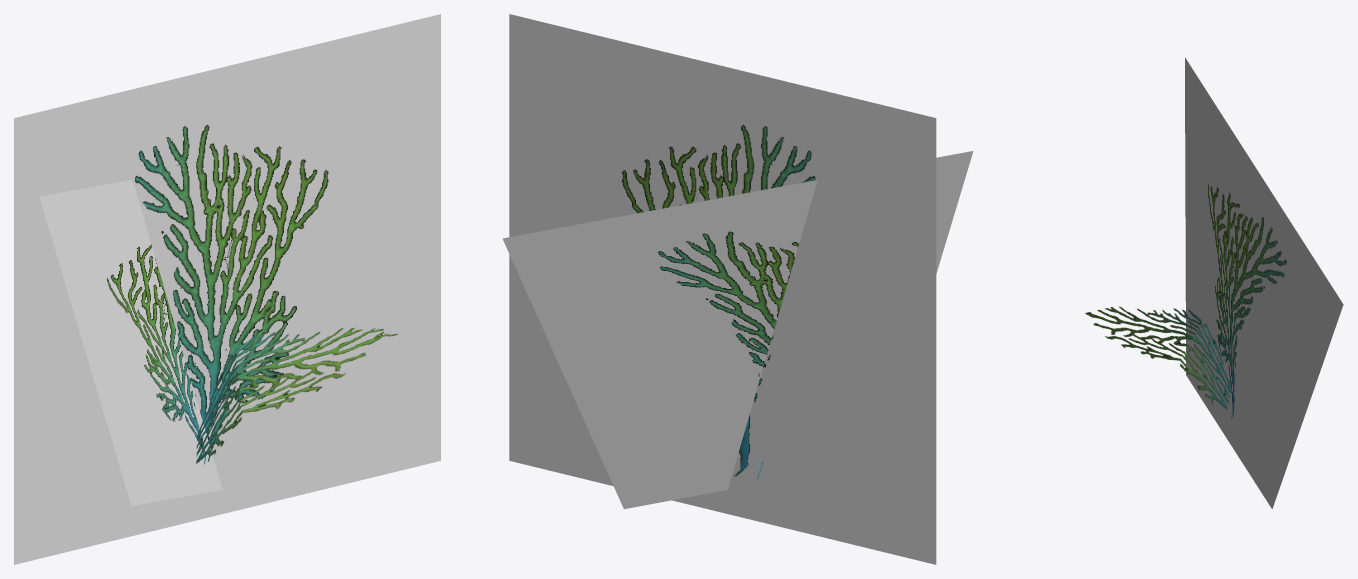
File: cyan_coral_2.glb
3 renders of one model, left to right at view 1: azimuth 30°, elevation 25°; view 2: azimuth 150°, elevation 25°; view 3: azimuth 270°, elevation 25°, orthographic. The views are drawn at different scales.
Parts seen in each view (by area): view 1: cyan_coral_02.001; view 2: cyan_coral_02.001; view 3: cyan_coral_02.001.
Part boxes in pixels (x1,y1,x2,y2): cyan_coral_02.001: [14, 14, 440, 564]; cyan_coral_02.001: [502, 14, 973, 564]; cyan_coral_02.001: [1085, 57, 1343, 508].
Bounding box in the file's own units: 1.73 × 1.71 × 1.4.
Materials: 2 (2 with a texture image).
